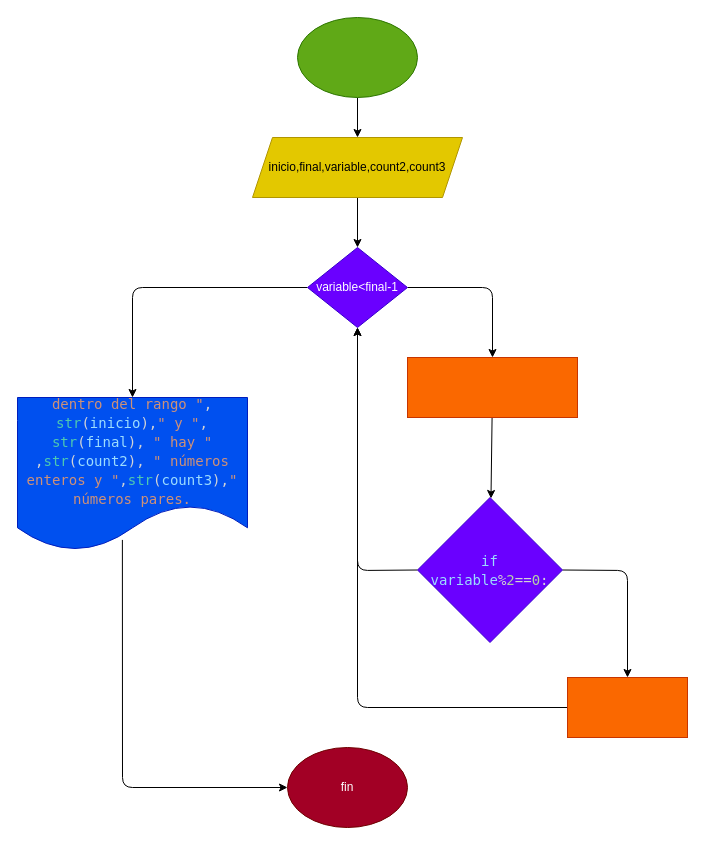
Image size: 705x845. Some labels were removed from this diagram. Here are the shapes that lost their labels. From the top down, the box of each, then its label:
(296, 16, 418, 98): inicio
(406, 356, 578, 418): variable = variable + 1 count2 = count2 + 1
(566, 676, 688, 738): count3 + 1
